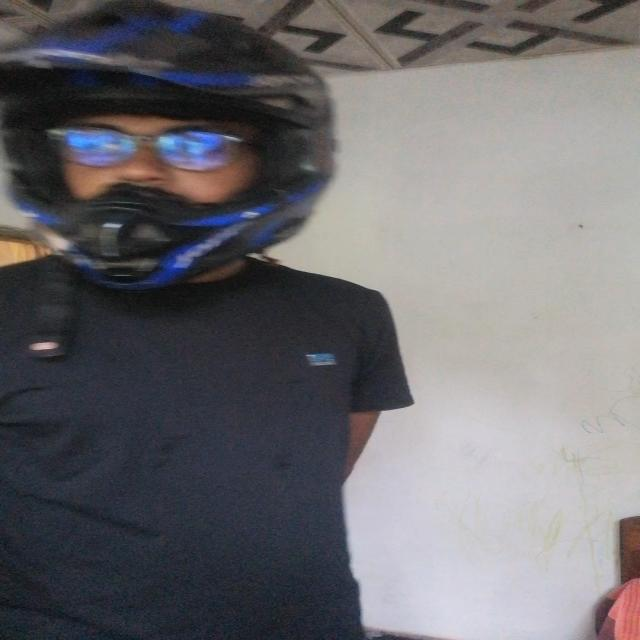Helmet_Wearer: (4, 6, 367, 327)
